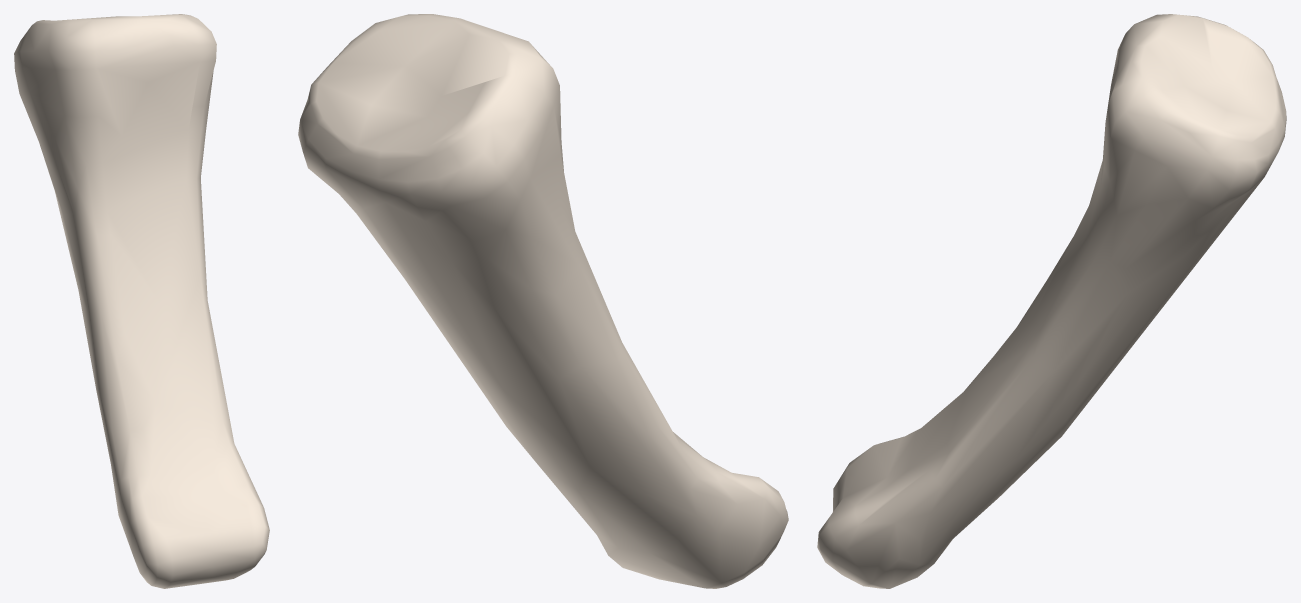
Rendered from right_digit_3_proximal.glb.
The picture shows the model from 3 angles, left to right: view 1: azimuth 30°, elevation 25°; view 2: azimuth 150°, elevation 25°; view 3: azimuth 270°, elevation 25°; orthographic projection. The views are drawn at different scales.
Parts seen in each view (by area): view 1: Proximal phalanx of 3rd finger.r; view 2: Proximal phalanx of 3rd finger.r; view 3: Proximal phalanx of 3rd finger.r.
Boxes of the visible parts, x1=… form: Proximal phalanx of 3rd finger.r: x1=14, y1=14, x2=269, y2=588; Proximal phalanx of 3rd finger.r: x1=298, y1=14, x2=788, y2=588; Proximal phalanx of 3rd finger.r: x1=817, y1=14, x2=1286, y2=588.
Size of the model in its own units: 0.0136 by 0.0304 by 0.0232.
